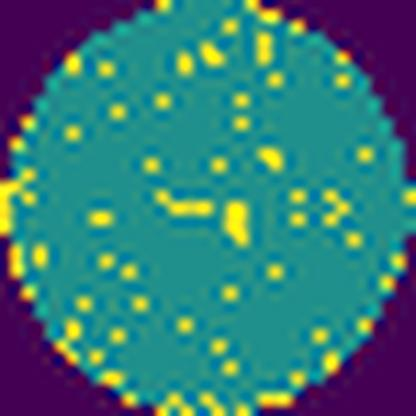Center: (150, 190, 253, 250)
